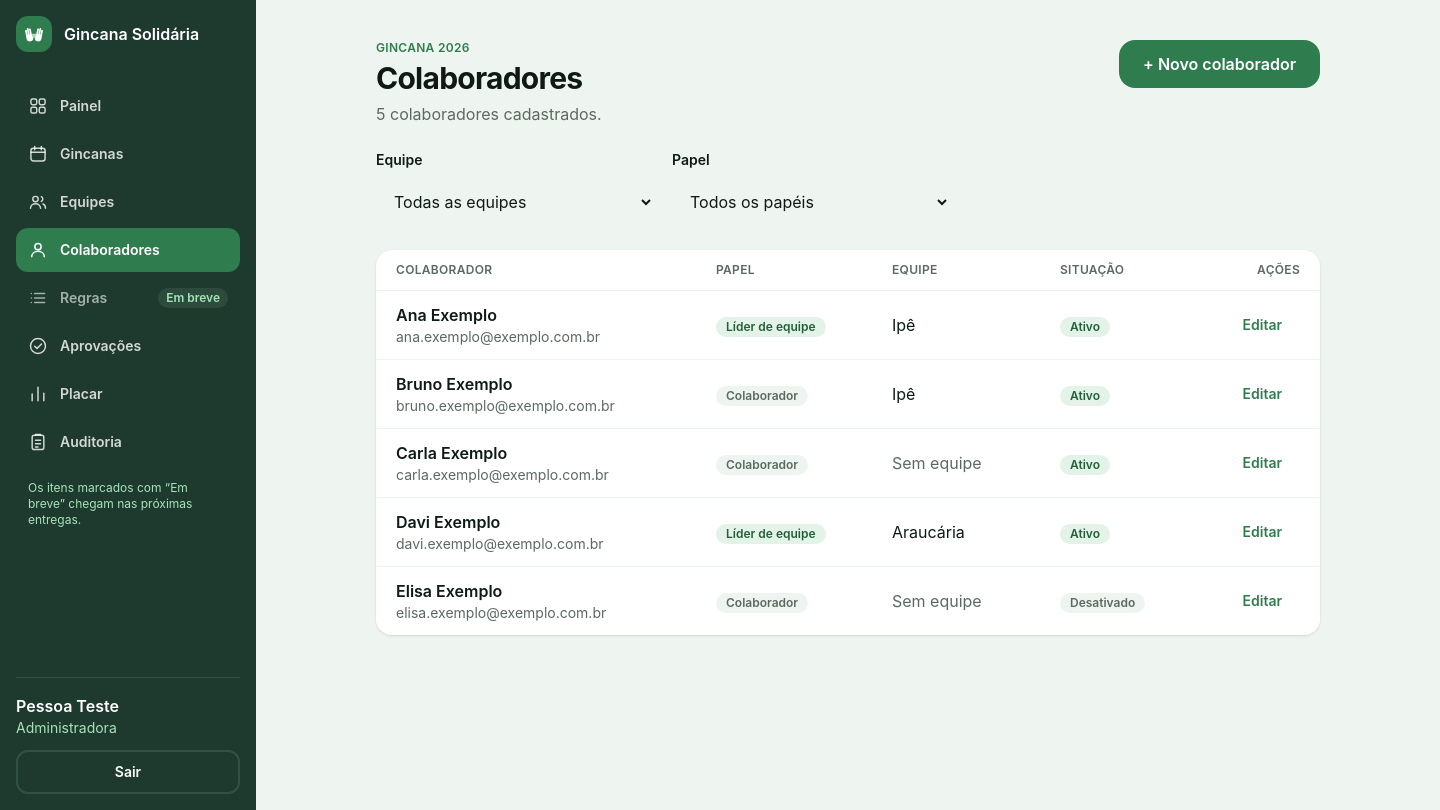
Test: Colaboradores (US03) › desativar › avisa quem lidera uma equipe e diz o que fazer, em vez de só repetir o erro
Click the button with aria-label "Editar Ana Exemplo": (1262, 324) [1224,302,1300,346]
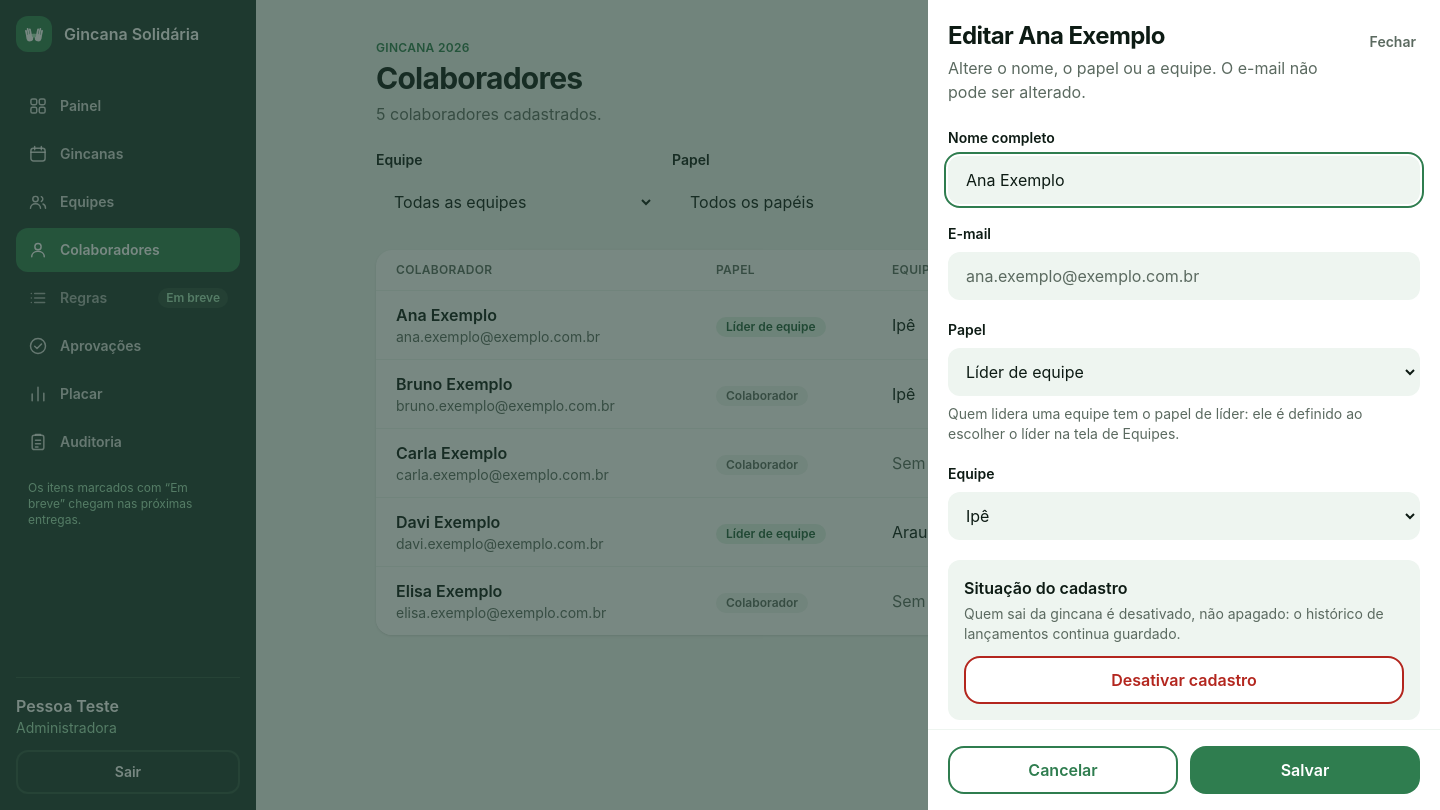
Click the button "Desativar cadastro": (1184, 680) [964,656,1404,704]
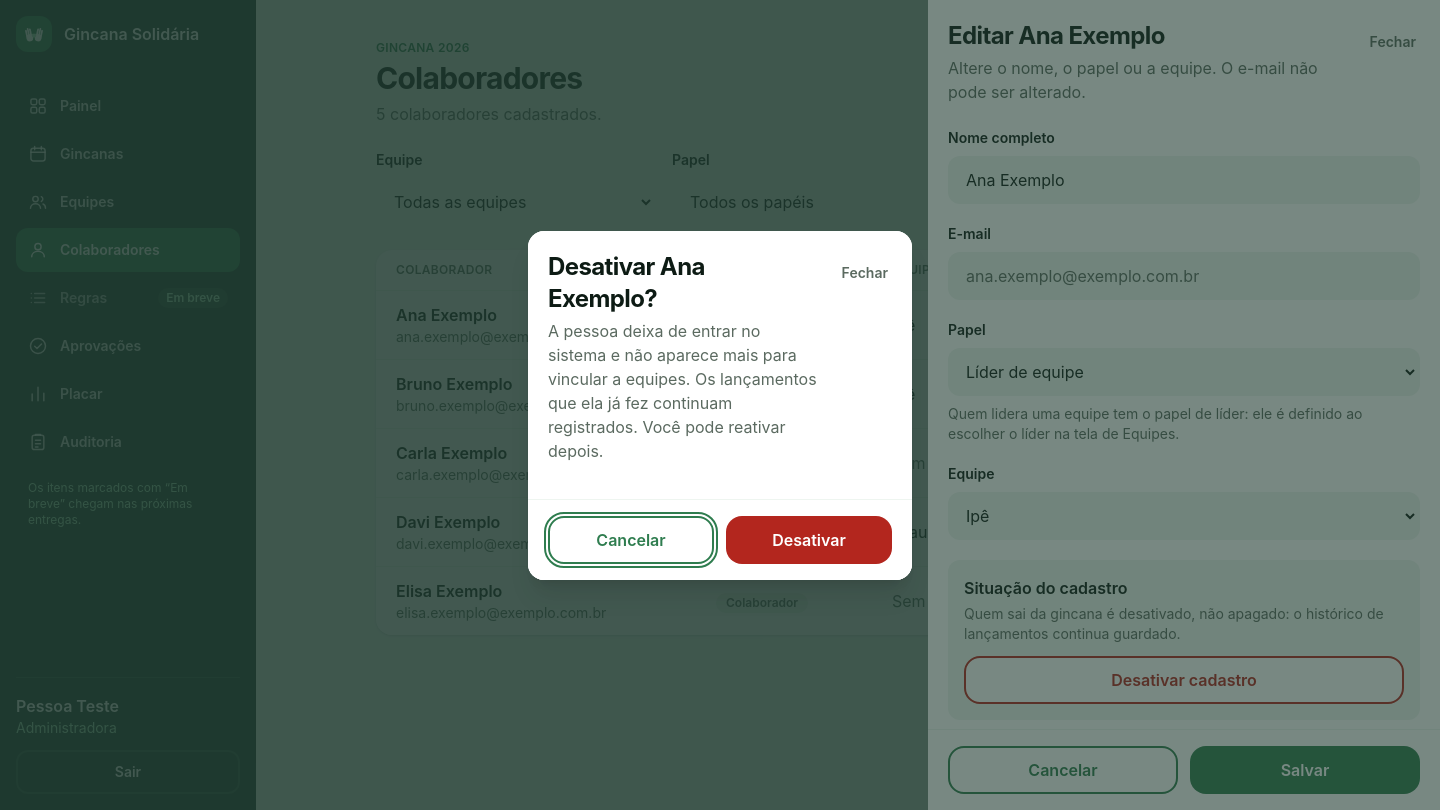
Click the button "Desativar": (809, 540) [726,516,892,564]
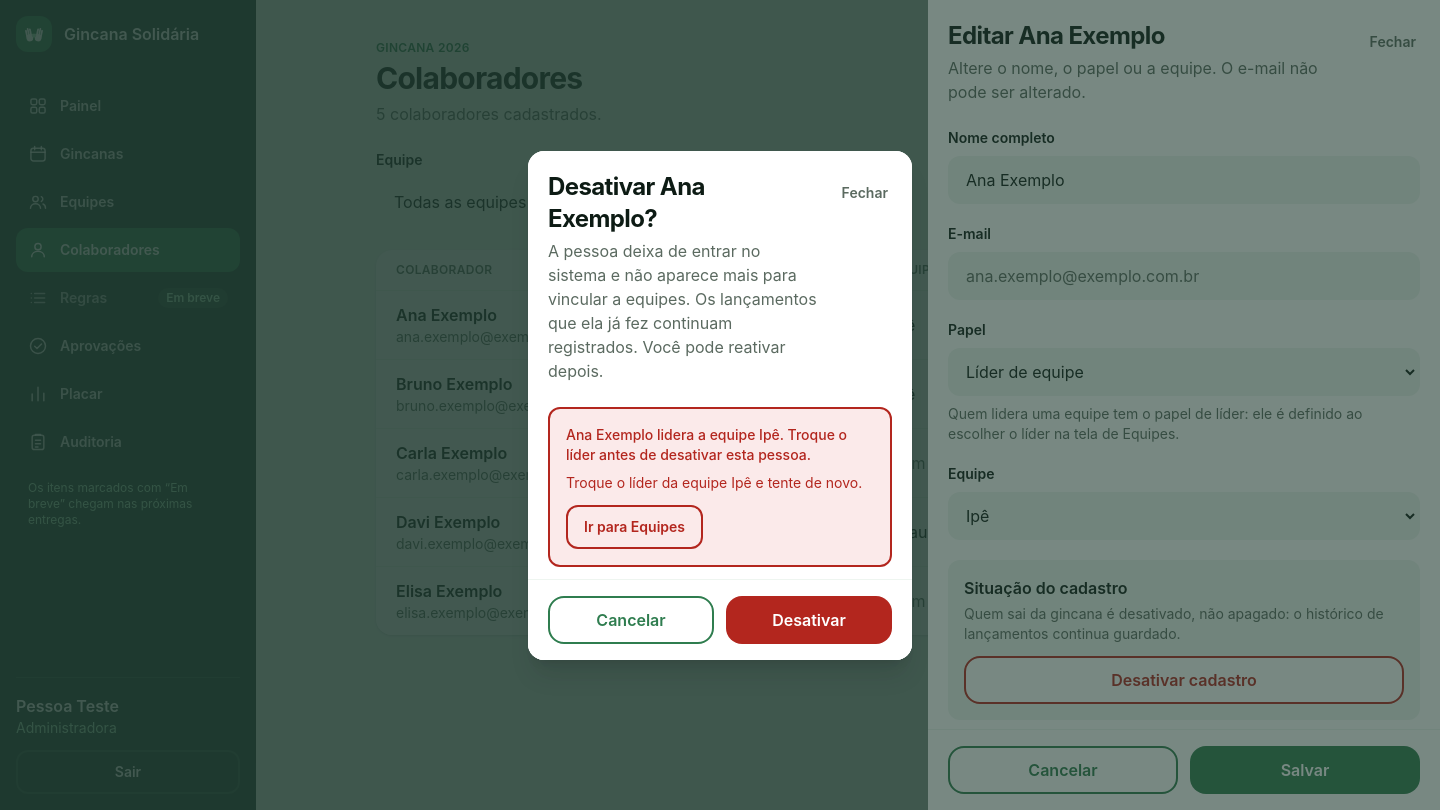
Check: the row shows "Ana Exemplo", box [396,304,497,324]
Check: the message shows "Ana Exemplo lidera a equipe Ipê. Troque o líder antes de desativar esta pessoa.", box [566,426,847,462]
Check: the message shows "Troque o líder da equipe Ipê e tente de novo.", box [566,474,862,490]
